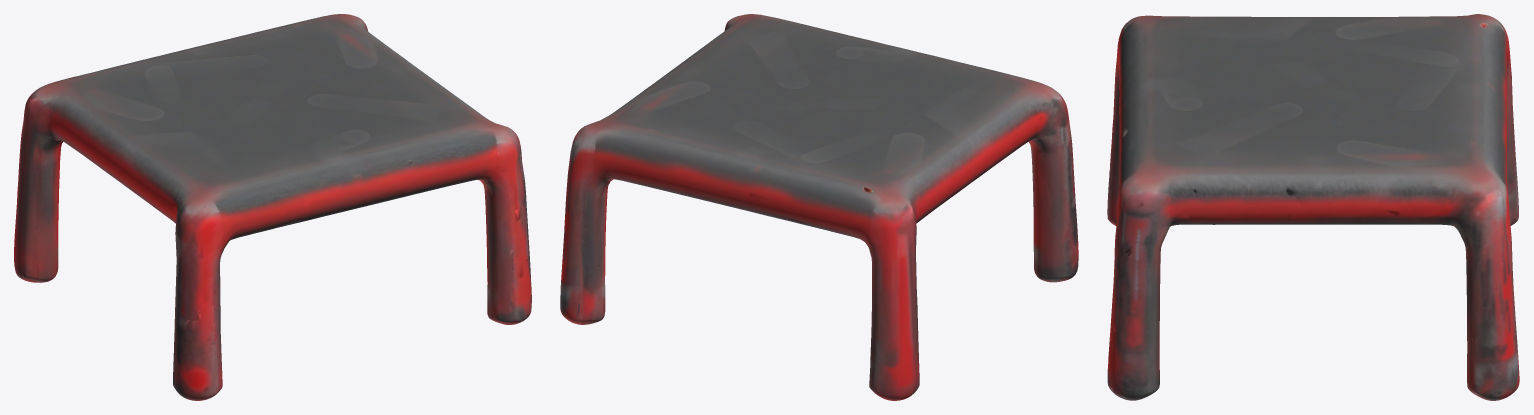
File: Meshy_AI_tạo_cho_tui_một_b_0531144352_texture.fbx
The picture shows the model from 3 angles, left to right: view 1: azimuth 30°, elevation 25°; view 2: azimuth 150°, elevation 25°; view 3: azimuth 270°, elevation 25°; orthographic projection. The views are drawn at different scales.
Visible parts, largest first — view 1: Mesh_0; view 2: Mesh_0; view 3: Mesh_0.
Part boxes in pixels (x1=…): Mesh_0: x1=14, y1=14, x2=531, y2=400; Mesh_0: x1=560, y1=14, x2=1078, y2=400; Mesh_0: x1=1107, y1=14, x2=1519, y2=400.
Bounding box in the file's own units: 200 × 109 × 182.
1 material, 1 textured.
